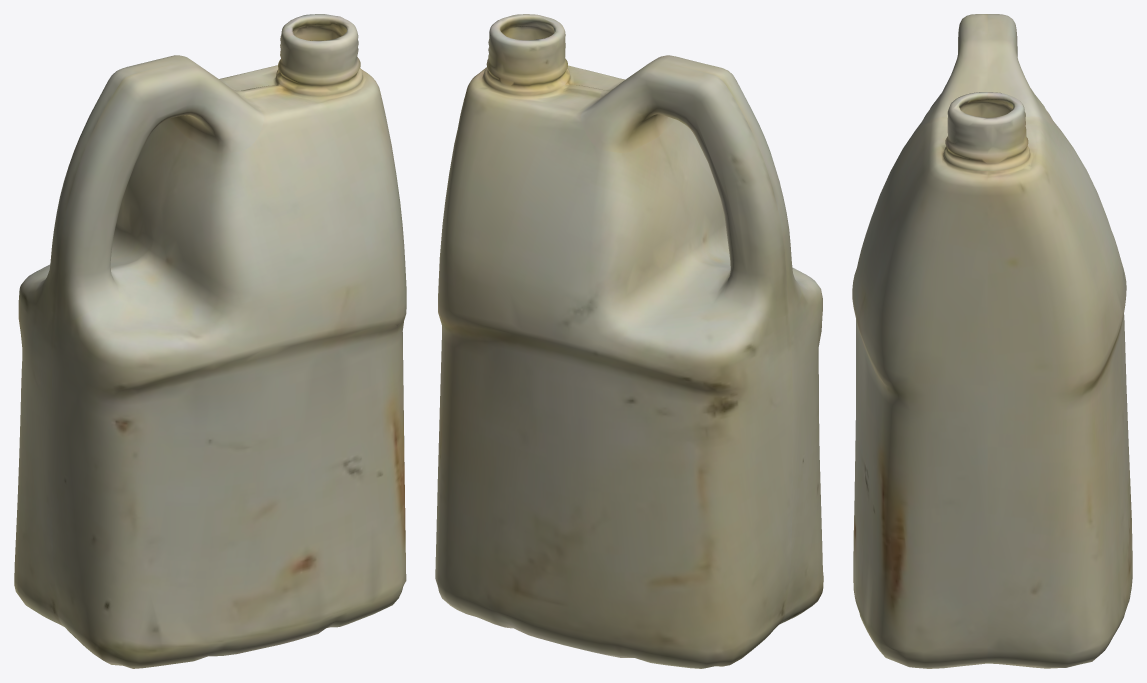
The model's file is plastic_bottle_gallon.fc61f484.glb.
The picture shows the model from 3 angles, left to right: view 1: azimuth 30°, elevation 25°; view 2: azimuth 150°, elevation 25°; view 3: azimuth 270°, elevation 25°; orthographic projection.
Parts seen in each view (by area): view 1: plastic_bottle_gallon; view 2: plastic_bottle_gallon; view 3: plastic_bottle_gallon.
Part boxes in pixels (x1,y1,x2,y2): plastic_bottle_gallon: (14, 14, 406, 668); plastic_bottle_gallon: (435, 14, 823, 668); plastic_bottle_gallon: (852, 14, 1132, 668).
Bounding box in the file's own units: 0.6057 × 1 × 0.4604.
Materials: 1 (1 with a texture image).
